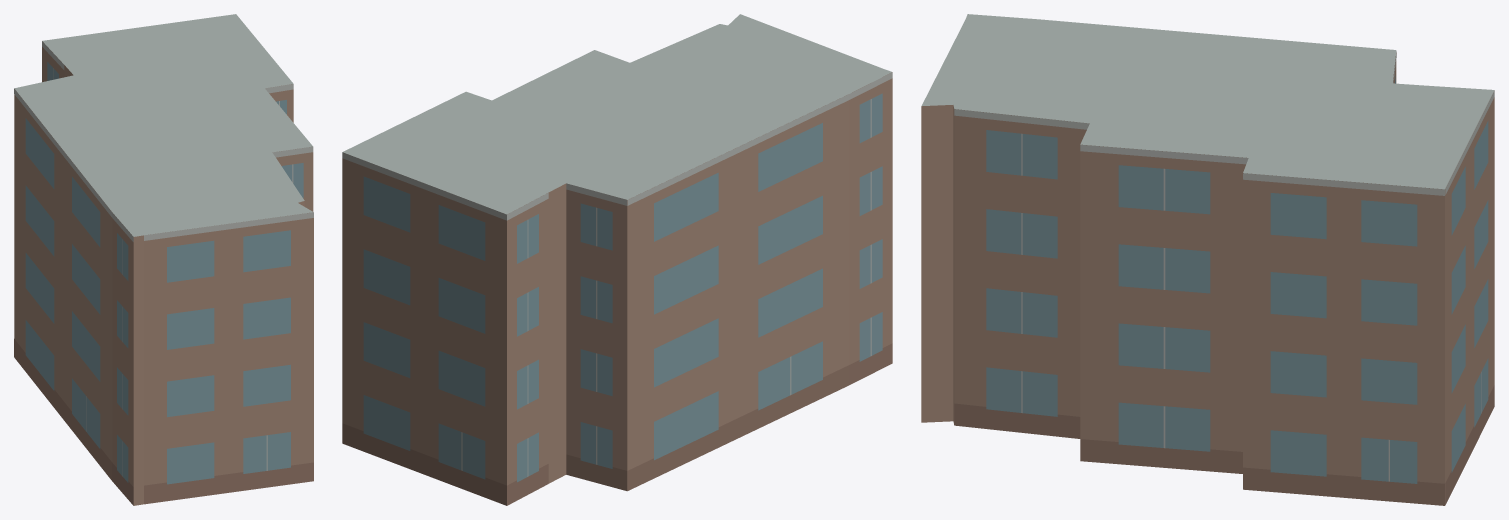
File: survey-upis-32927201.glb
The picture shows the model from 3 angles, left to right: view 1: azimuth 30°, elevation 25°; view 2: azimuth 150°, elevation 25°; view 3: azimuth 270°, elevation 25°; orthographic projection. The views are drawn at different scales.
Parts seen in each view (by area): view 1: survey-upis-32927201.tmp; view 2: survey-upis-32927201.tmp; view 3: survey-upis-32927201.tmp.
Part boxes in pixels (x1,y1,x2,y2): survey-upis-32927201.tmp: (14,14,313,505); survey-upis-32927201.tmp: (342,14,892,505); survey-upis-32927201.tmp: (921,14,1494,505).
Bounding box in the file's own units: 13.79 × 11.6 × 19.05.
